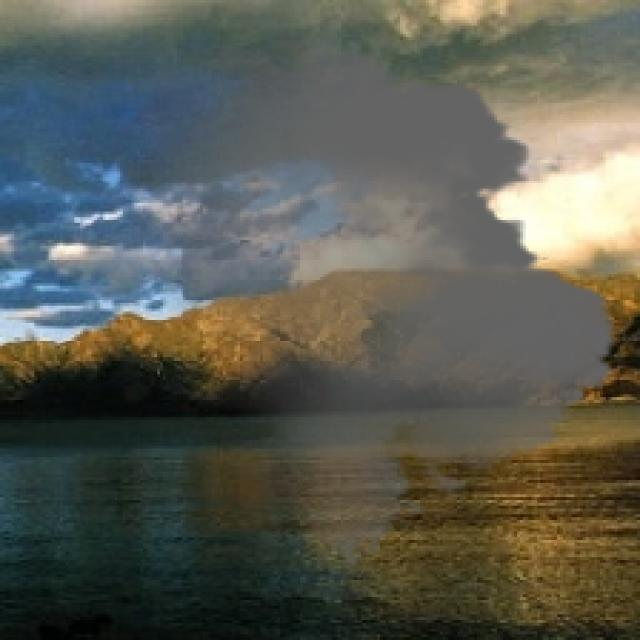smoke: (97, 37, 634, 569)
